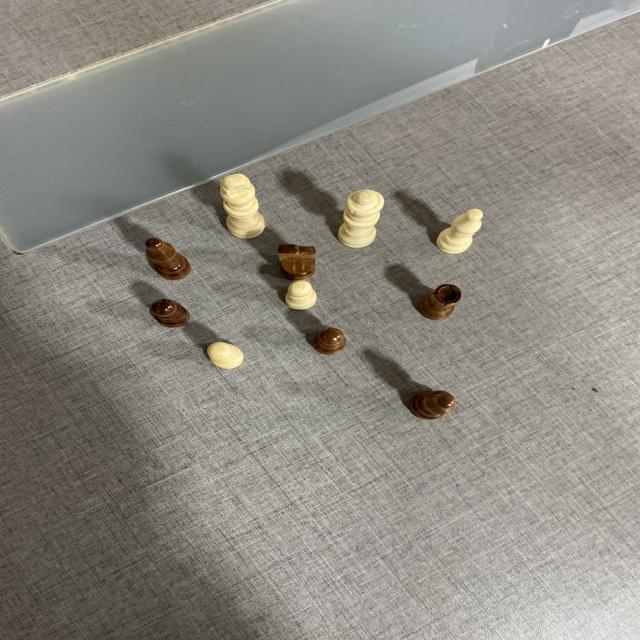Black-Bishop: (142, 237, 192, 282)
Black-Knight: (276, 243, 317, 282)
Black-Pawn: (408, 389, 457, 421), (150, 298, 191, 328), (311, 326, 349, 355)
Black-Rook: (423, 284, 463, 320)
White-Bishop: (436, 208, 483, 254)
White-King: (219, 173, 267, 240)
White-Pawn: (206, 341, 245, 370), (285, 280, 317, 310)
White-Queen: (338, 188, 386, 250)
